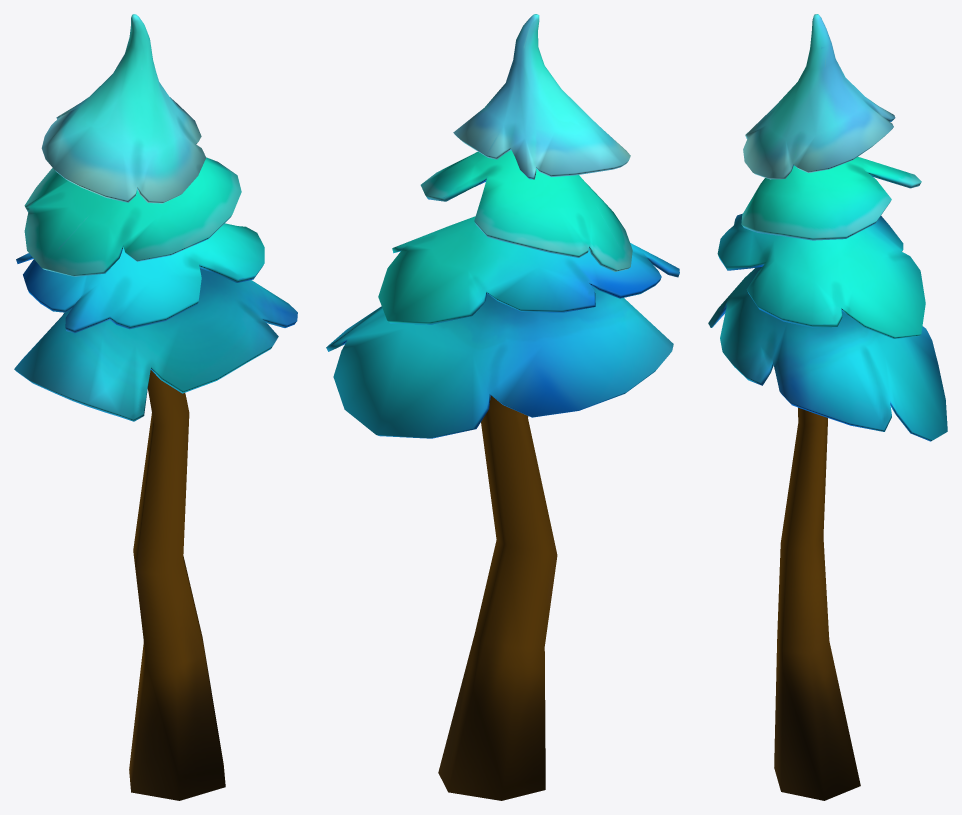
File: TreeStyle2Blue_03.fbx
3 renders of one model, left to right at view 1: azimuth 30°, elevation 25°; view 2: azimuth 150°, elevation 25°; view 3: azimuth 270°, elevation 25°, orthographic. The views are drawn at different scales.
Visible parts, largest first — view 1: TreeStyle2_03; view 2: TreeStyle2_03; view 3: TreeStyle2_03.
Boxes of the visible parts, x1,y1,x2,y2 form: TreeStyle2_03: (14,14,297,800); TreeStyle2_03: (326,14,679,800); TreeStyle2_03: (708,14,947,800).
Size of the model in its own units: 582 by 1507 by 440.
